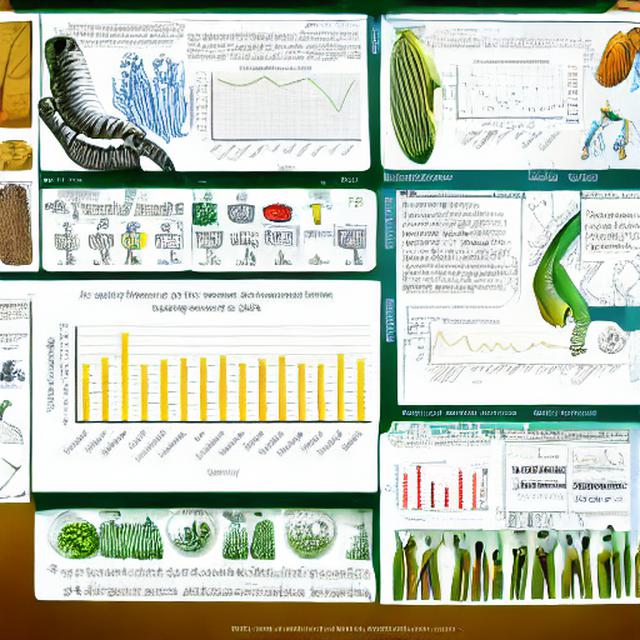Graph: (36, 285, 377, 484), (189, 64, 364, 169), (442, 58, 564, 130), (418, 320, 527, 384), (380, 459, 469, 517), (569, 444, 629, 479)
